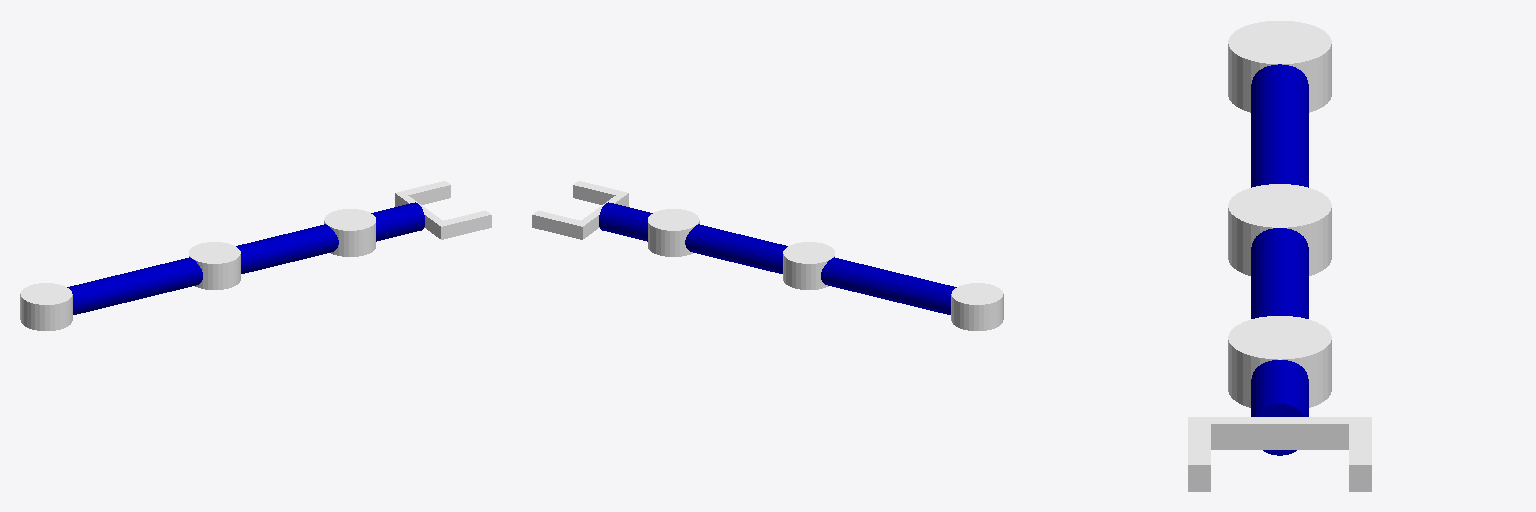
The robot description file, URDF, robot "planar3dof":
<?xml version="1.0" ?>
<!-- ================================================================================ -->
<!-- |    This document was autogenerated by xacro from planar3dof.xacro            | -->
<!-- |    EDITING THIS FILE BY HAND IS NOT RECOMMENDED                              | -->
<!-- ================================================================================ -->
<!-- Planar 3DoF robot (based on Revolute-Revolute Manipulator) -->
<robot name="planar3dof" xmlns:xacro="http://www.ros.org/wiki/xacro">
    <material name="black">
        <color rgba="0.0 0.0 0.0 1.0"/>
    </material>
    <material name="blue">
        <color rgba="0.0 0.0 0.8 1.0"/>
    </material>
    <material name="green">
        <color rgba="0.0 0.8 0.0 1.0"/>
    </material>
    <material name="grey">
        <color rgba="0.2 0.2 0.2 1.0"/>
    </material>
    <material name="orange">
        <color rgba="1.0 0.423529411765 0.0392156862745 1.0"/>
    </material>
    <material name="brown">
        <color rgba="0.870588235294 0.811764705882 0.764705882353 1.0"/>
    </material>
    <material name="red">
        <color rgba="0.8 0.0 0.0 1.0"/>
    </material>
    <material name="white">
        <color rgba="1.0 1.0 1.0 1.0"/>
    </material>
    <!-- Used for fixing robot to Gazebo 'base_link' -->
    <link name="world"/>
    <!--<joint name="fixed" type="fixed">-->
    <!--<parent link="world"/>-->
    <!--<child link="link1"/>-->
    <!--<origin xyz="0 0 ${base_z}" rpy="0 0 0"/>-->
    <!--</joint>-->
    <joint name="fixed" type="fixed">
        <parent link="world"/>
        <child link="base_link"/>
        <origin rpy="0 0 0" xyz="0 0 0.0"/>
    </joint>
    <link name="base_link">
        <collision>
            <origin rpy="0 0 0" xyz="0 0 0.025"/>
            <geometry>
                <cylinder length="0.03" radius="0.01"/>
            </geometry>
        </collision>
        <visual>
            <origin rpy="0 0 0" xyz="0 0 0.025"/>
            <geometry>
                <cylinder length="0.03" radius="0.01"/>
            </geometry>
            <material name="black"/>
        </visual>
        <inertial>
            <origin rpy="0 0 0" xyz="0 0 0.025"/>
            <mass value="2.46615023307"/>
            <inertia ixx="0.000575435054383" ixy="0.0" ixz="0.0"
                     iyy="0.000575435054383" iyz="0.0"
                     izz="0.000123307511653"/>
        </inertial>
    </link>
<!--    <joint name="joint0" type="continuous">-->
    <joint name="joint0" type="revolute">
        <parent link="base_link"/>
        <child link="coupler0"/>
        <origin rpy="0 0 0" xyz="0 0 0.03"/>
        <limit effort="100.0" lower="-2.18" upper="2.18" velocity="0.5"/>
        <axis xyz="0 0 1"/>
        <dynamics damping="0.7"/>
    </joint>
    <link name="coupler0">
        <collision>
            <origin rpy="0 0 0" xyz="0 0 0"/>
            <geometry>
                <!--<sphere radius="${radius_axel}"/>-->
                <cylinder length="0.05" radius="0.045"/>
            </geometry>
        </collision>
        <visual>
            <origin rpy="0 0 0" xyz="0 0 0"/>
            <geometry>
                <!--<sphere radius="${radius_axel}"/>-->
                <cylinder length="0.05" radius="0.045"/>
            </geometry>
            <material name="white"/>
        </visual>
        <inertial>
            <origin rpy="0 0 0" xyz="0 0 0"/>
            <mass value="0.001"/>
            <inertia ixx="0.001" ixy="0.0" ixz="0.0" iyy="0.001" iyz="0.0"
                     izz="0.001"/>
        </inertial>
    </link>
    <joint name="coupler_joint0" type="fixed">
        <parent link="coupler0"/>
        <child link="link1"/>
        <origin rpy="0 0 0" xyz="0 0 0"/>
    </joint>
    <!-- Base Link -->
    <link name="link1">
        <collision>
            <origin rpy="1.57079632679 0 1.57079632679" xyz="0.15 0 0"/>
            <geometry>
                <cylinder length="0.3" radius="0.025"/>
            </geometry>
        </collision>
        <visual>
            <origin rpy="1.57079632679 0 1.57079632679" xyz="0.15 0 0"/>
            <geometry>
                <cylinder length="0.3" radius="0.025"/>
            </geometry>
            <material name="blue"/>
        </visual>
        <inertial>
            <origin rpy="1.57079632679 0 1.57079632679" xyz="0.15 0 0"/>
            <mass value="1.2723450247"/>
            <inertia ixx="0.00974139159539" ixy="0.0" ixz="0.0"
                     iyy="0.00974139159539" iyz="0.0" izz="0.00039760782022"/>
        </inertial>
    </link>
    <!--<joint name="joint1" type="revolute">-->
    <!--<parent link="link1"/>-->
    <!--<child link="link2"/>-->
    <!--<origin xyz="${height1 + axel_offset} 0 0" rpy="0 0 0"/>-->
    <!--<limit effort="100.0" lower="-2.18" upper="2.18" velocity="0.5"/>-->
    <!--<axis xyz="0 0 1"/>-->
    <!--<dynamics damping="0.7"/>-->
    <!--</joint>-->
    <joint name="joint1" type="revolute">
        <parent link="link1"/>
        <child link="coupler1"/>
        <origin rpy="0 0 0" xyz="0.335 0 0"/>
        <limit effort="100.0" lower="-2.18" upper="2.18" velocity="0.5"/>
        <axis xyz="0 0 1"/>
        <dynamics damping="0.7"/>
    </joint>
    <link name="coupler1">
        <collision>
            <origin rpy="0 0 0" xyz="0 0 0"/>
            <geometry>
                <cylinder length="0.05" radius="0.045"/>
            </geometry>
        </collision>
        <visual>
            <origin rpy="0 0 0" xyz="0 0 0"/>
            <geometry>
                <cylinder length="0.05" radius="0.045"/>
            </geometry>
            <material name="white"/>
        </visual>
        <inertial>
            <origin rpy="0 0 0" xyz="0 0 0"/>
            <mass value="0.001"/>
            <inertia ixx="1.0" ixy="0.0" ixz="0.0" iyy="1.0" iyz="0.0"
                     izz="1.0"/>
        </inertial>
    </link>
    <joint name="coupler_joint1" type="fixed">
        <parent link="coupler1"/>
        <child link="link2"/>
        <origin rpy="0 0 0" xyz="0.035 0 0"/>
    </joint>
    <!--Middle Link-->
    <link name="link2">
        <collision>
            <origin rpy="1.57079632679 0 1.57079632679" xyz="0.1 0 0"/>
            <geometry>
                <cylinder length="0.2" radius="0.025"/>
            </geometry>
        </collision>
        <visual>
            <origin rpy="1.57079632679 0 1.57079632679" xyz="0.1 0 0"/>
            <geometry>
                <cylinder length="0.2" radius="0.025"/>
            </geometry>
            <material name="blue"/>
        </visual>
        <inertial>
            <origin rpy="1.57079632679 0 1.57079632679" xyz="0.1 0 0"/>
            <mass value="0.848230016469"/>
            <inertia ixx="0.00437368602242" ixy="0.0" ixz="0.0"
                     iyy="0.00437368602242" iyz="0.0" izz="0.000265071880147"/>
        </inertial>
    </link>
    <!--<joint name="joint2" type="revolute">-->
    <!--<parent link="link2"/>-->
    <!--<child link="link3"/>-->
    <!--<origin xyz="${height2 + axel_offset*2} 0.1 0.1" rpy="0 0 0"/>-->
    <!--<limit effort="100.0" lower="-2.18" upper="2.18" velocity="0.5"/>-->
    <!--<axis xyz="0 0 1"/>-->
    <!--<dynamics damping="0.7"/>-->
    <!--</joint>-->
    <joint name="joint2" type="revolute">
        <parent link="link2"/>
        <child link="coupler2"/>
        <origin rpy="0 0 0" xyz="0.235 0 0"/>
        <limit effort="100.0" lower="-2.18" upper="2.18" velocity="0.5"/>
        <axis xyz="0 0 1"/>
        <dynamics damping="0.7"/>
    </joint>
    <link name="coupler2">
        <collision>
            <origin rpy="0 0 0" xyz="0 0 0"/>
            <geometry>
                <cylinder length="0.05" radius="0.045"/>
            </geometry>
        </collision>
        <visual>
            <origin rpy="0 0 0" xyz="0 0 0"/>
            <geometry>
                <cylinder length="0.05" radius="0.045"/>
            </geometry>
            <material name="white"/>
        </visual>
        <inertial>
            <origin rpy="0 0 0" xyz="0 0 0"/>
            <mass value="0.001"/>
            <inertia ixx="1.0" ixy="0.0" ixz="0.0" iyy="1.0" iyz="0.0"
                     izz="1.0"/>
        </inertial>
    </link>
    <joint name="coupler_joint2" type="fixed">
        <parent link="coupler2"/>
        <child link="link3"/>
        <origin rpy="0 0 0" xyz="0.035 0 0"/>
    </joint>
    <!--Top Link-->
    <link name="link3">
        <collision>
            <origin rpy="1.57079632679 0 1.57079632679" xyz="0.05 0 0"/>
            <geometry>
                <cylinder length="0.1" radius="0.025"/>
            </geometry>
        </collision>
        <visual>
            <origin rpy="1.57079632679 0 1.57079632679" xyz="0.05 0 0"/>
            <geometry>
                <cylinder length="0.1" radius="0.025"/>
            </geometry>
            <material name="blue"/>
        </visual>
        <inertial>
            <origin rpy="1.57079632679 0 1.57079632679" xyz="0.05 0 0"/>
            <mass value="0.424115008235"/>
            <inertia ixx="0.00112655549062" ixy="0.0" ixz="0.0"
                     iyy="0.00112655549062" iyz="0.0" izz="0.000132535940073"/>
        </inertial>
    </link>
    <joint name="gripper_joint" type="fixed">
        <parent link="link3"/>
        <child link="gripper"/>
        <origin rpy="0 0 0" xyz="0.1 0 0"/>
    </joint>
    <link name="gripper">
        <visual>
            <origin rpy="1.57079632679 0 1.57079632679" xyz="0.0075 0 0"/>
            <geometry>
                <box size="0.16 0.025 0.015"/>
            </geometry>
            <material name="white"/>
        </visual>
        <visual>
            <origin rpy="1.57079632679 0 1.57079632679" xyz="0.0575 0.07 0"/>
            <geometry>
                <box size="0.02 0.025 0.085"/>
            </geometry>
            <material name="white"/>
        </visual>
        <visual>
            <origin rpy="1.57079632679 0 1.57079632679" xyz="0.0575 -0.07 0"/>
            <geometry>
                <box size="0.02 0.025 0.085"/>
            </geometry>
            <material name="white"/>
        </visual>
        <collision>
            <origin rpy="1.57079632679 0 1.57079632679" xyz="0.0075 0 0"/>
            <geometry>
                <box size="0.16 0.025 0.015"/>
            </geometry>
            <material name="white"/>
        </collision>
        <collision>
            <origin rpy="1.57079632679 0 1.57079632679" xyz="0.0575 0.07 0"/>
            <geometry>
                <box size="0.02 0.025 0.085"/>
            </geometry>
            <material name="white"/>
        </collision>
        <collision>
            <origin rpy="1.57079632679 0 1.57079632679" xyz="0.0575 -0.07 0"/>
            <geometry>
                <box size="0.02 0.025 0.085"/>
            </geometry>
            <material name="white"/>
        </collision>
        <inertial>
            <origin rpy="0 0 0" xyz="0 0 0"/>
            <mass value="0.1"/>
            <inertia ixx="1.0" ixy="0.0" ixz="0.0" iyy="1.0" iyz="0.0"
                     izz="1.0"/>
        </inertial>
    </link>
    <joint name="gripper_center_joint" type="fixed">
        <parent link="gripper"/>
        <child link="gripper_center"/>
        <origin rpy="0 0 0" xyz="0.06 0 0"/>
    </joint>
    <link name="gripper_center">
        <!--<visual>-->
        <!--<origin xyz="0 0 0" rpy="0 0 0"/>-->
        <!--<geometry>-->
        <!--<cylinder length="${height_axel}" radius="${radius_axel}"/>-->
        <!--</geometry>-->
        <!--<material name="white"/>-->
        <!--</visual>-->
        <inertial>
            <origin rpy="0 0 0" xyz="0 0 0"/>
            <mass value="0.001"/>
            <inertia ixx="0.001" ixy="0.0" ixz="0.0" iyy="0.001" iyz="0.0"
                     izz="0.001"/>
        </inertial>
    </link>
    <transmission name="tran0">
        <type>transmission_interface/SimpleTransmission</type>
        <joint name="joint0">
            <hardwareInterface>hardware_interface/EffortJointInterface
            </hardwareInterface>
        </joint>
        <actuator name="motor0">
            <hardwareInterface>hardware_interface/EffortJointInterface
            </hardwareInterface>
            <mechanicalReduction>1</mechanicalReduction>
        </actuator>
    </transmission>
    <transmission name="tran1">
        <type>transmission_interface/SimpleTransmission</type>
        <joint name="joint1">
            <hardwareInterface>hardware_interface/EffortJointInterface
            </hardwareInterface>
        </joint>
        <actuator name="motor1">
            <hardwareInterface>hardware_interface/EffortJointInterface
            </hardwareInterface>
            <mechanicalReduction>1</mechanicalReduction>
        </actuator>
    </transmission>
    <transmission name="tran2">
        <type>transmission_interface/SimpleTransmission</type>
        <joint name="joint2">
            <hardwareInterface>hardware_interface/EffortJointInterface
            </hardwareInterface>
        </joint>
        <actuator name="motor2">
            <hardwareInterface>hardware_interface/EffortJointInterface
            </hardwareInterface>
            <mechanicalReduction>1</mechanicalReduction>
        </actuator>
    </transmission>
</robot>

--- Facts derived from the render (not from the file) ---
Views: 3 orthographic renders of the robot side by side, from view 1: azimuth 30°, elevation 25°; view 2: azimuth 150°, elevation 25°; view 3: azimuth 270°, elevation 25°.
Robot: planar3dof — 10 links, 9 joints (3 revolute, 6 fixed); root link world; default pose: all joints at 0.
Links seen in each view (by area): view 1: link1, link2, coupler0, gripper, coupler1, coupler2, link3; view 2: link1, link2, coupler0, gripper, coupler1, coupler2, link3; view 3: gripper, link1, coupler1, coupler2, coupler0, link2, link3.
Boxes of the visible links, x1,y1,x2,y2 form: link1: (67,257,202,314); link2: (236,224,338,273); coupler0: (20,283,72,330); gripper: (395,181,491,239); coupler1: (189,242,240,289); coupler2: (324,209,375,256); link3: (371,202,424,241); link1: (821,257,956,314); link2: (685,224,787,273); coupler0: (951,283,1003,330); gripper: (532,181,628,239); coupler1: (783,242,834,289); coupler2: (648,209,699,256); link3: (599,202,652,241); gripper: (1188,417,1371,491); link1: (1251,64,1308,187); coupler1: (1228,184,1331,275); coupler2: (1228,316,1331,407); coupler0: (1228,21,1331,112); link2: (1251,228,1308,318); link3: (1251,360,1308,455).
Size in the robot's own frame: 0.885 by 0.16 by 0.05 metres.
Geometry: primitives only (box / cylinder / sphere), no mesh files.